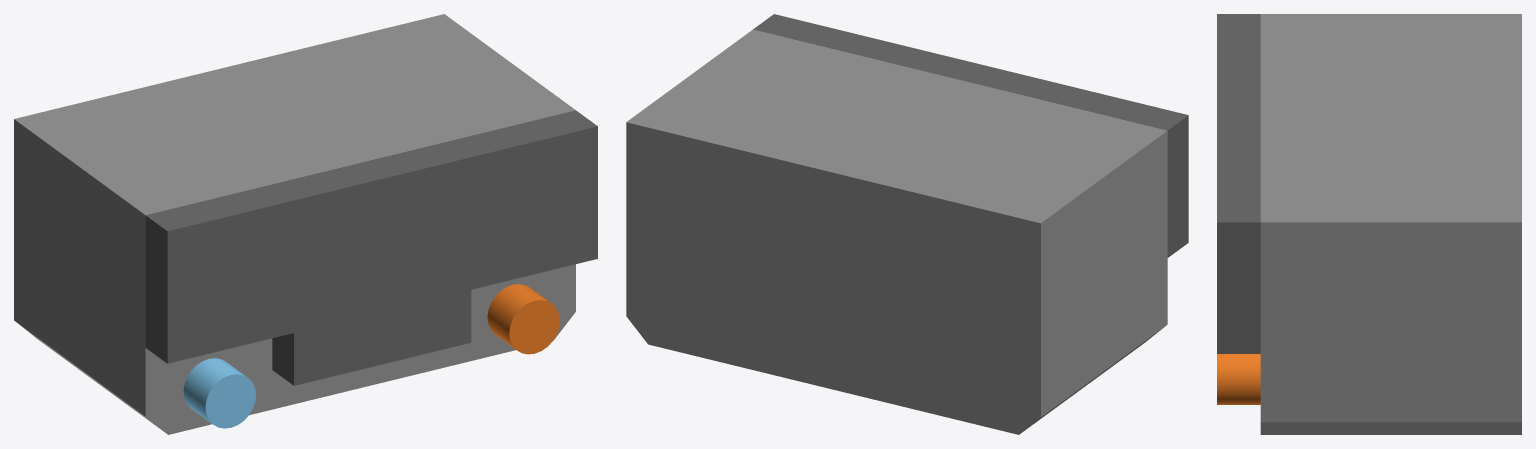
Rendered from lead_acid_battery.dae.
3 renders of one model, left to right at view 1: azimuth 30°, elevation 25°; view 2: azimuth 150°, elevation 25°; view 3: azimuth 270°, elevation 25°, orthographic. The views are drawn at different scales.
Parts seen in each view (by area): view 1: instance_0, instance_0_001, instance_0_002, instance_0_003; view 2: instance_0, instance_0_001; view 3: instance_0, instance_0_001, instance_0_002.
Boxes of the visible parts, <box> form: instance_0: <box>14,14,575,434</box>; instance_0_001: <box>145,110,597,385</box>; instance_0_002: <box>487,284,559,354</box>; instance_0_003: <box>183,358,255,428</box>; instance_0: <box>626,29,1167,434</box>; instance_0_001: <box>753,14,1188,257</box>; instance_0: <box>1260,14,1521,434</box>; instance_0_001: <box>1217,14,1260,353</box>; instance_0_002: <box>1217,354,1260,404</box>.
Bounding box in the file's own units: 134 × 66.93 × 82.68.
